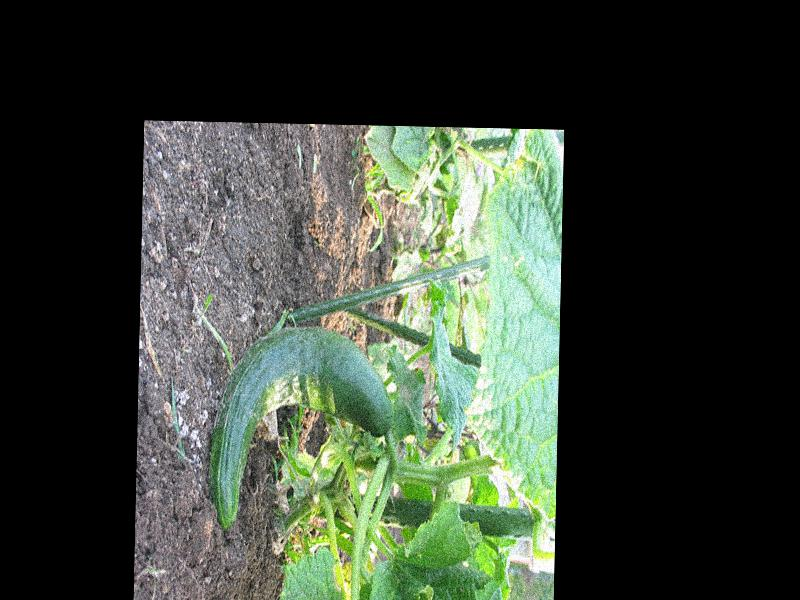Cucumber: (207, 323, 395, 534)
